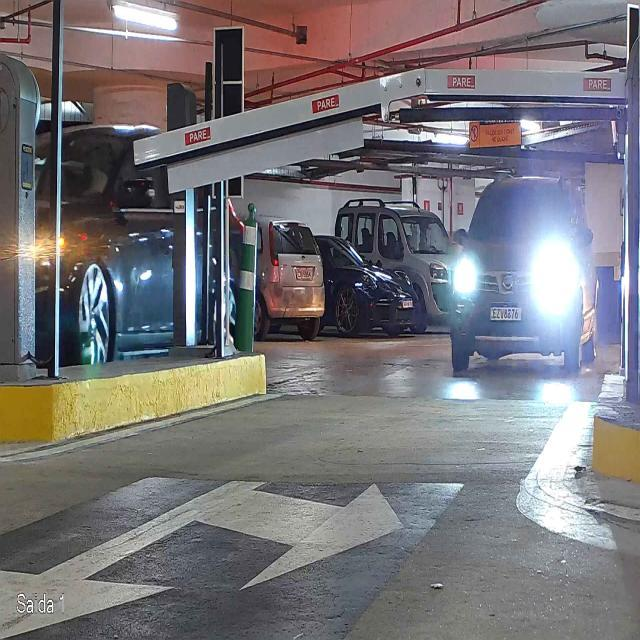mercosul_plate: (488, 302, 522, 322)
